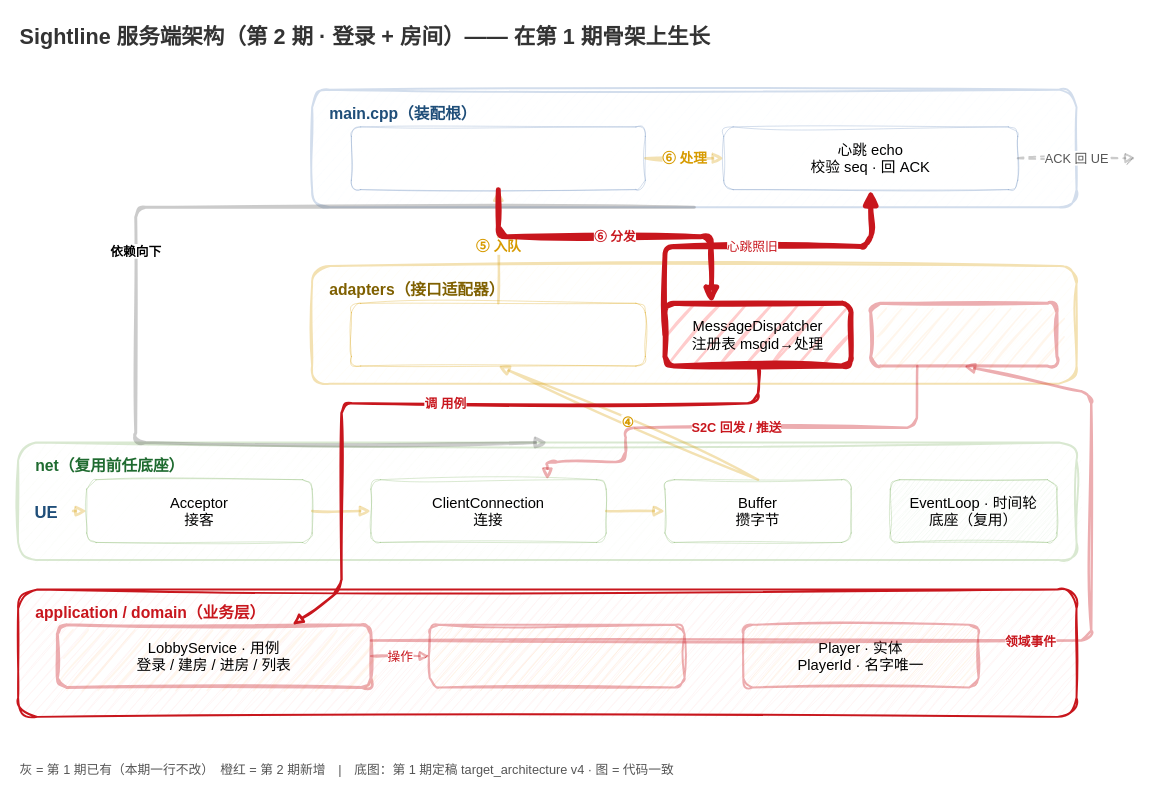
Image size: 1160x798. Some labels were removed from this diagram. The box of each missing label's shape, as (x1, y1, x2, y2) in pixels:
FrameCodec 切帧: (350, 302, 645, 366)
FrameWriter 领域事件→帧: (869, 301, 1058, 367)
Room · 实体 成员 ≤4 · 房主=最早加入者: (428, 623, 685, 688)
帧队列 每 33ms 处理一批: (350, 126, 645, 190)
